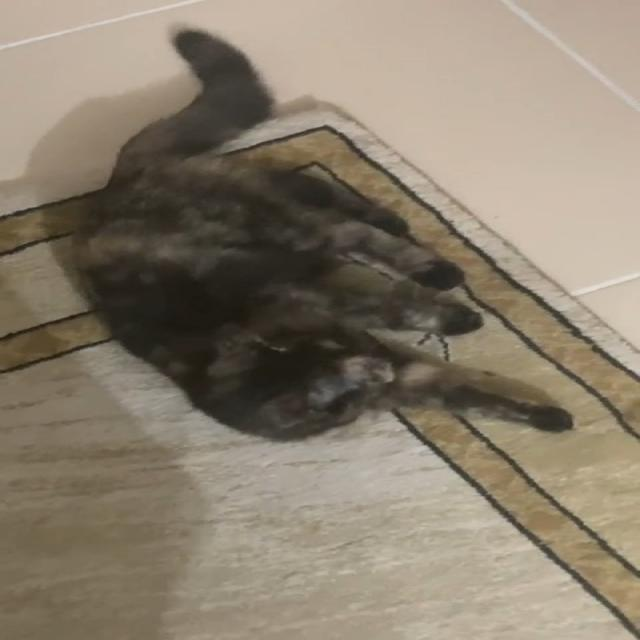authorized: (66, 23, 574, 442)
